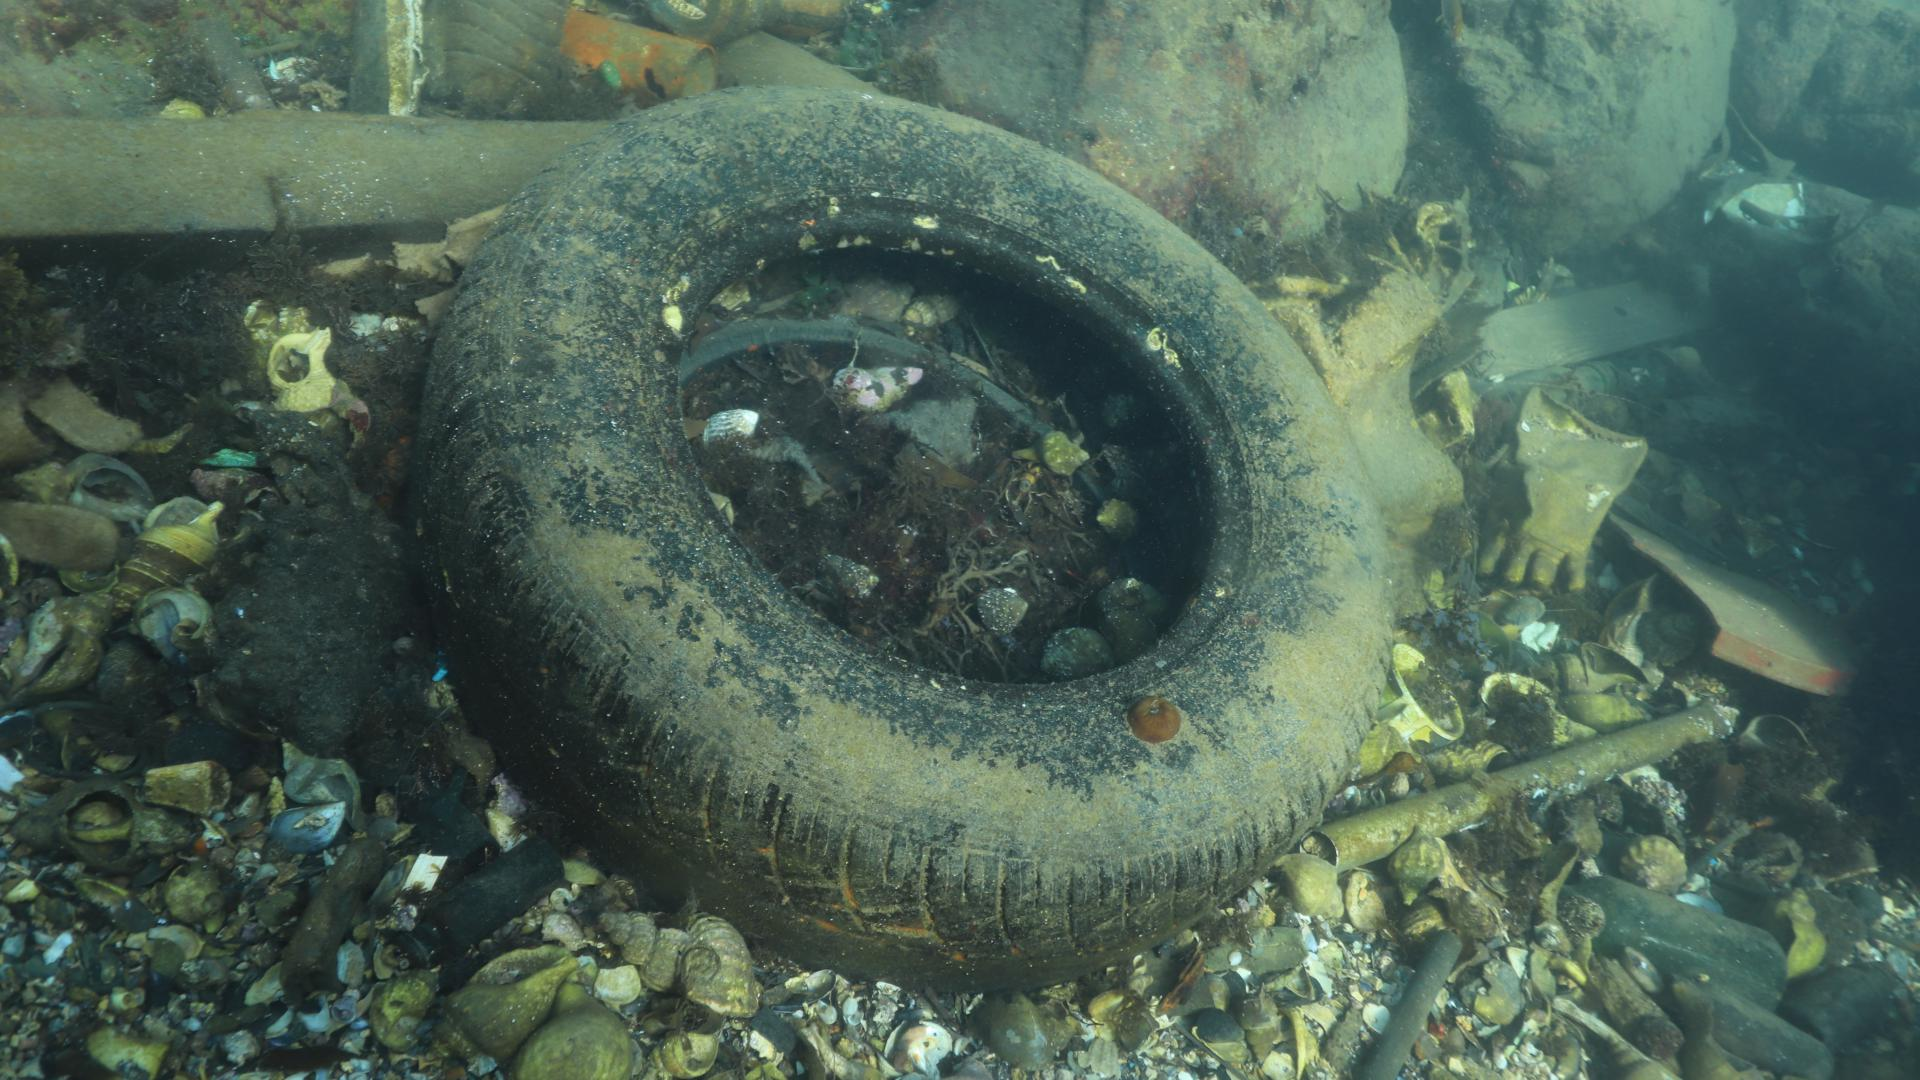tire: (407, 78, 1393, 1009)
wood: (0, 102, 641, 274)
